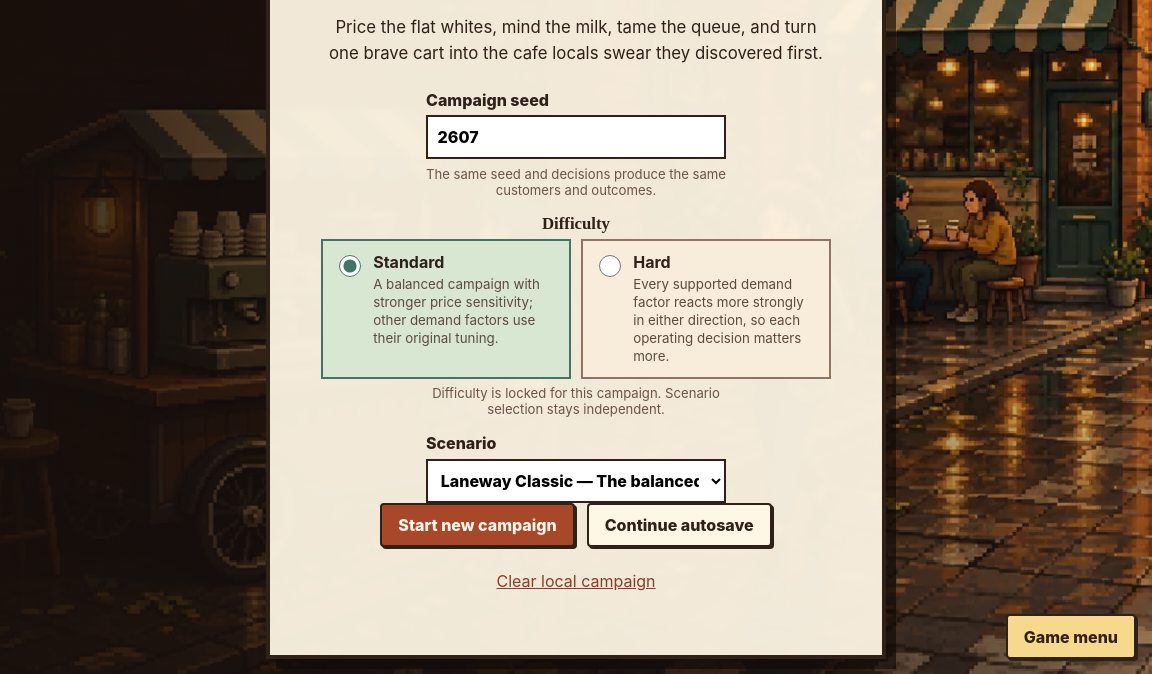
it: snapshot presentation and audio consent › renders exact dense-rush truth with static reduced-motion evidence
(page scrolled)
Click the button "Continue autosave".
click(679, 525)  # box [587, 503, 772, 548]
(page scrolled)
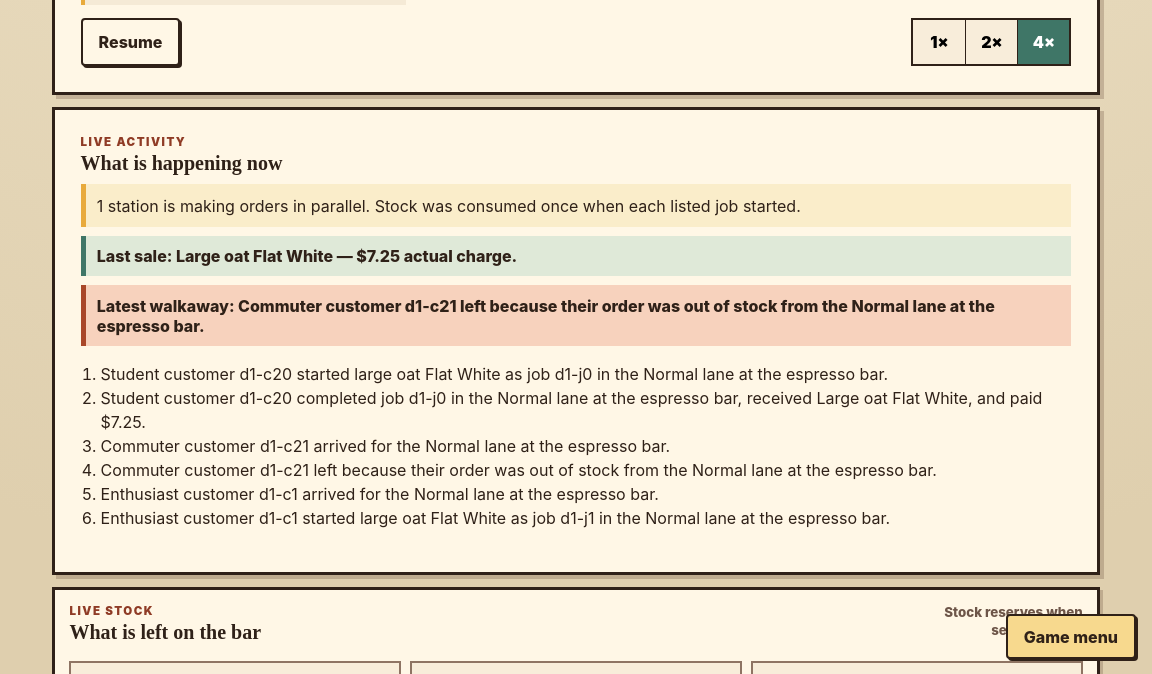
Result: the text "Last sale: Large oat Flat White — $7.25 actual charge." is shown at [81, 236, 1071, 276]
